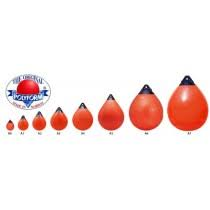buoy: (168, 85, 208, 131), (129, 92, 164, 131), (98, 98, 125, 131), (72, 108, 94, 130), (49, 112, 68, 131), (33, 115, 45, 131), (18, 119, 28, 130), (7, 121, 14, 131)
